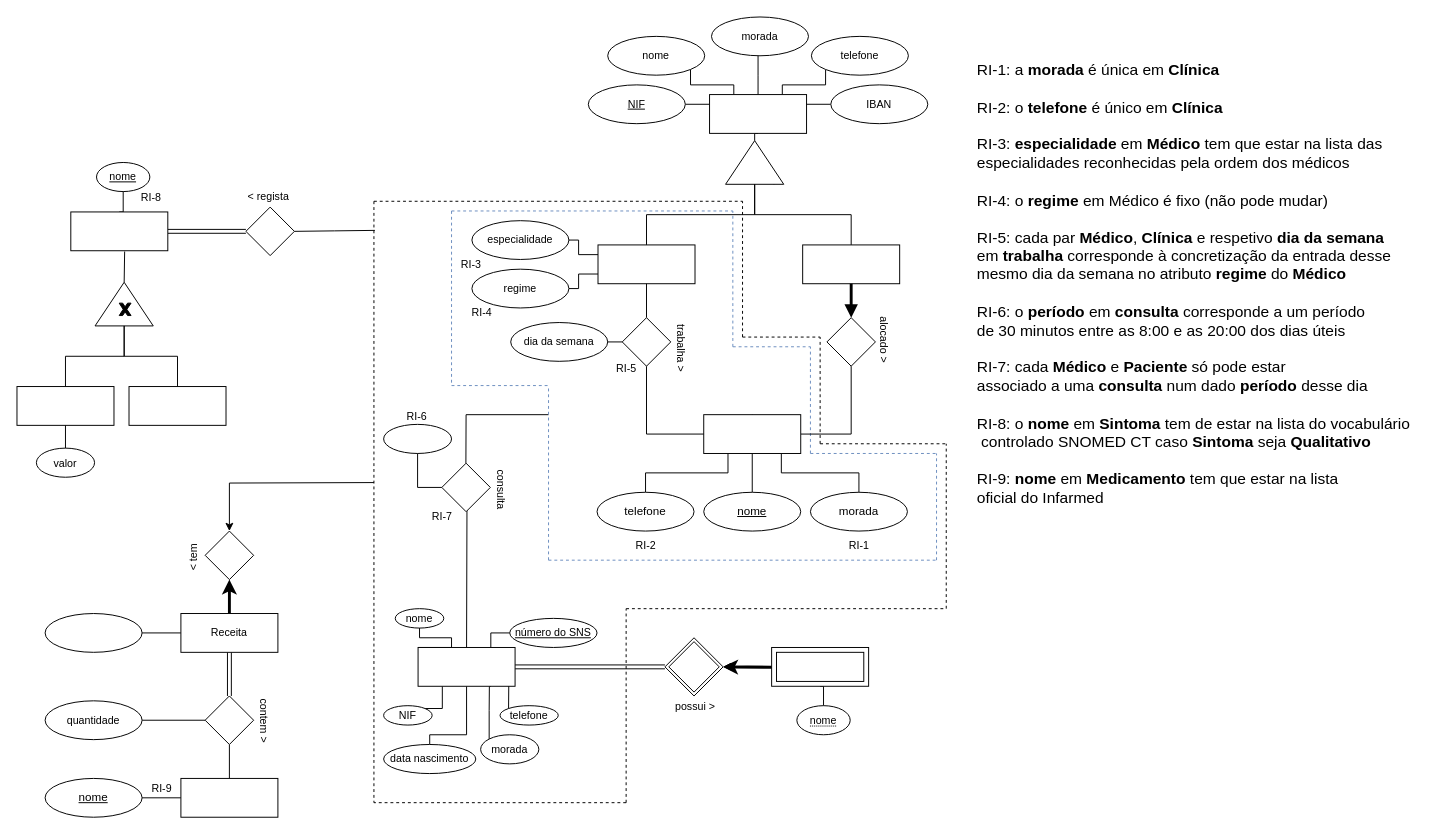
This 1448x834 diagram has some shape labels left out. Each missing label, with the centre of its shape:
"Clínica" goes at [752,433].
"código do SNS" goes at [93,632].
"Enfermeiro" goes at [851,264].
"Medicamento" goes at [229,797].
"Médico" goes at [646,264].
"Paciente" goes at [466,666].
"período" goes at [417,438].
"Profissional de saúde" goes at [758,113].
"Qualitativo" goes at [177,405].
"Quantiativo" goes at [65,405].
"Sintoma" goes at [119,231].
"Sistema de saúde" goes at [820,666].
